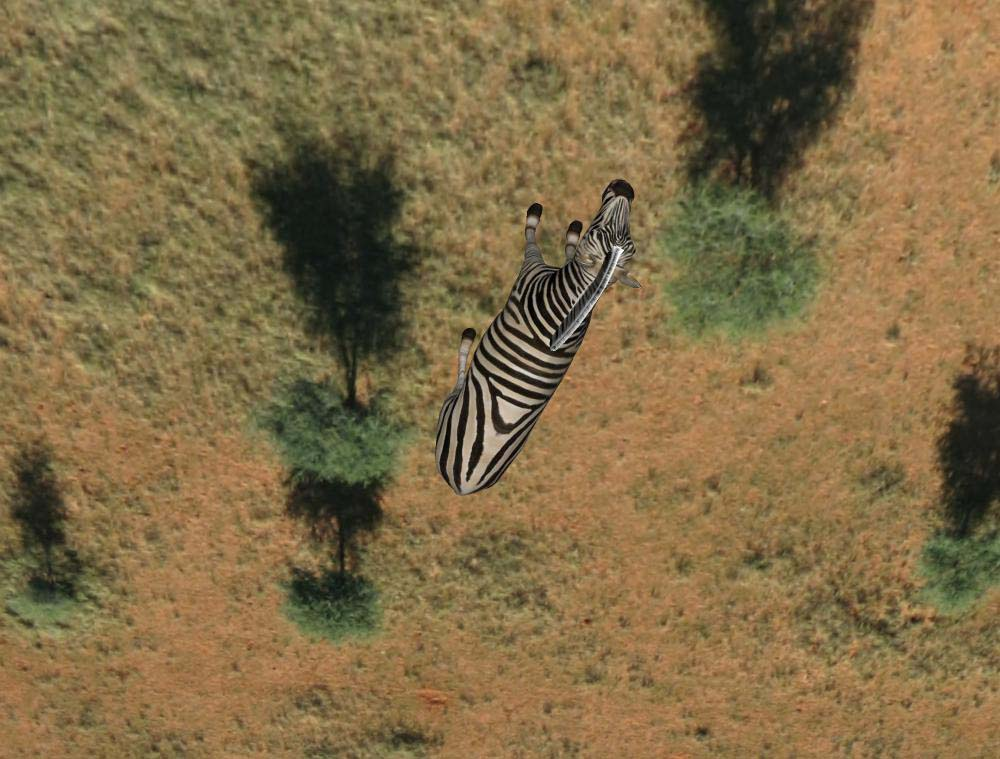zebra: (439, 167, 634, 497)
